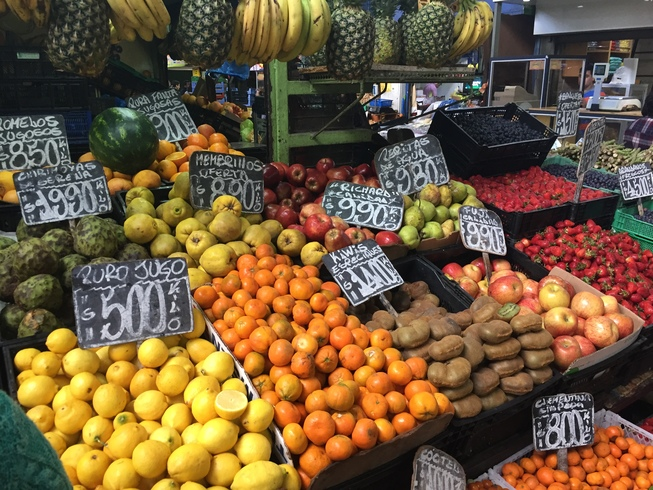precio: (63, 254, 201, 350), (10, 155, 115, 228), (313, 237, 408, 315), (180, 146, 277, 221), (369, 130, 454, 200), (123, 82, 208, 150), (527, 386, 601, 462), (319, 175, 415, 233), (1, 111, 73, 173), (454, 203, 516, 257), (408, 439, 468, 490), (556, 82, 592, 149), (581, 117, 609, 189), (617, 159, 653, 205)
